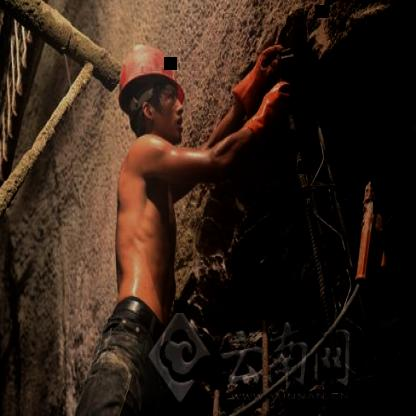helmet: (113, 34, 192, 148)
